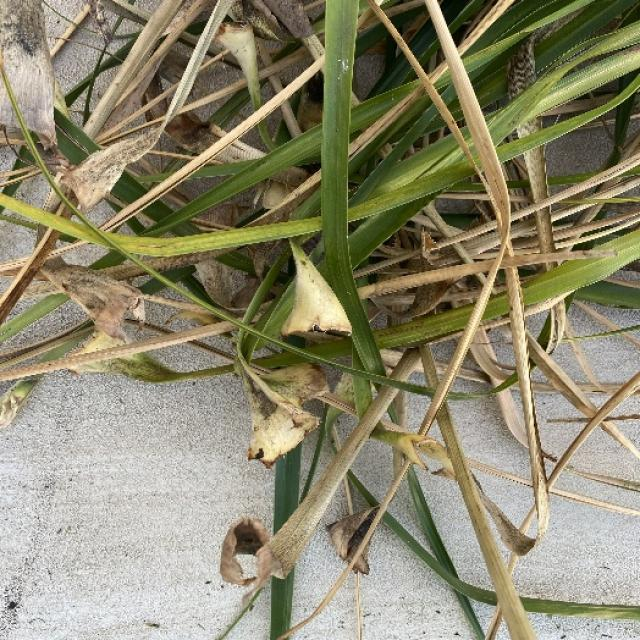organik: (35, 0, 640, 574)
